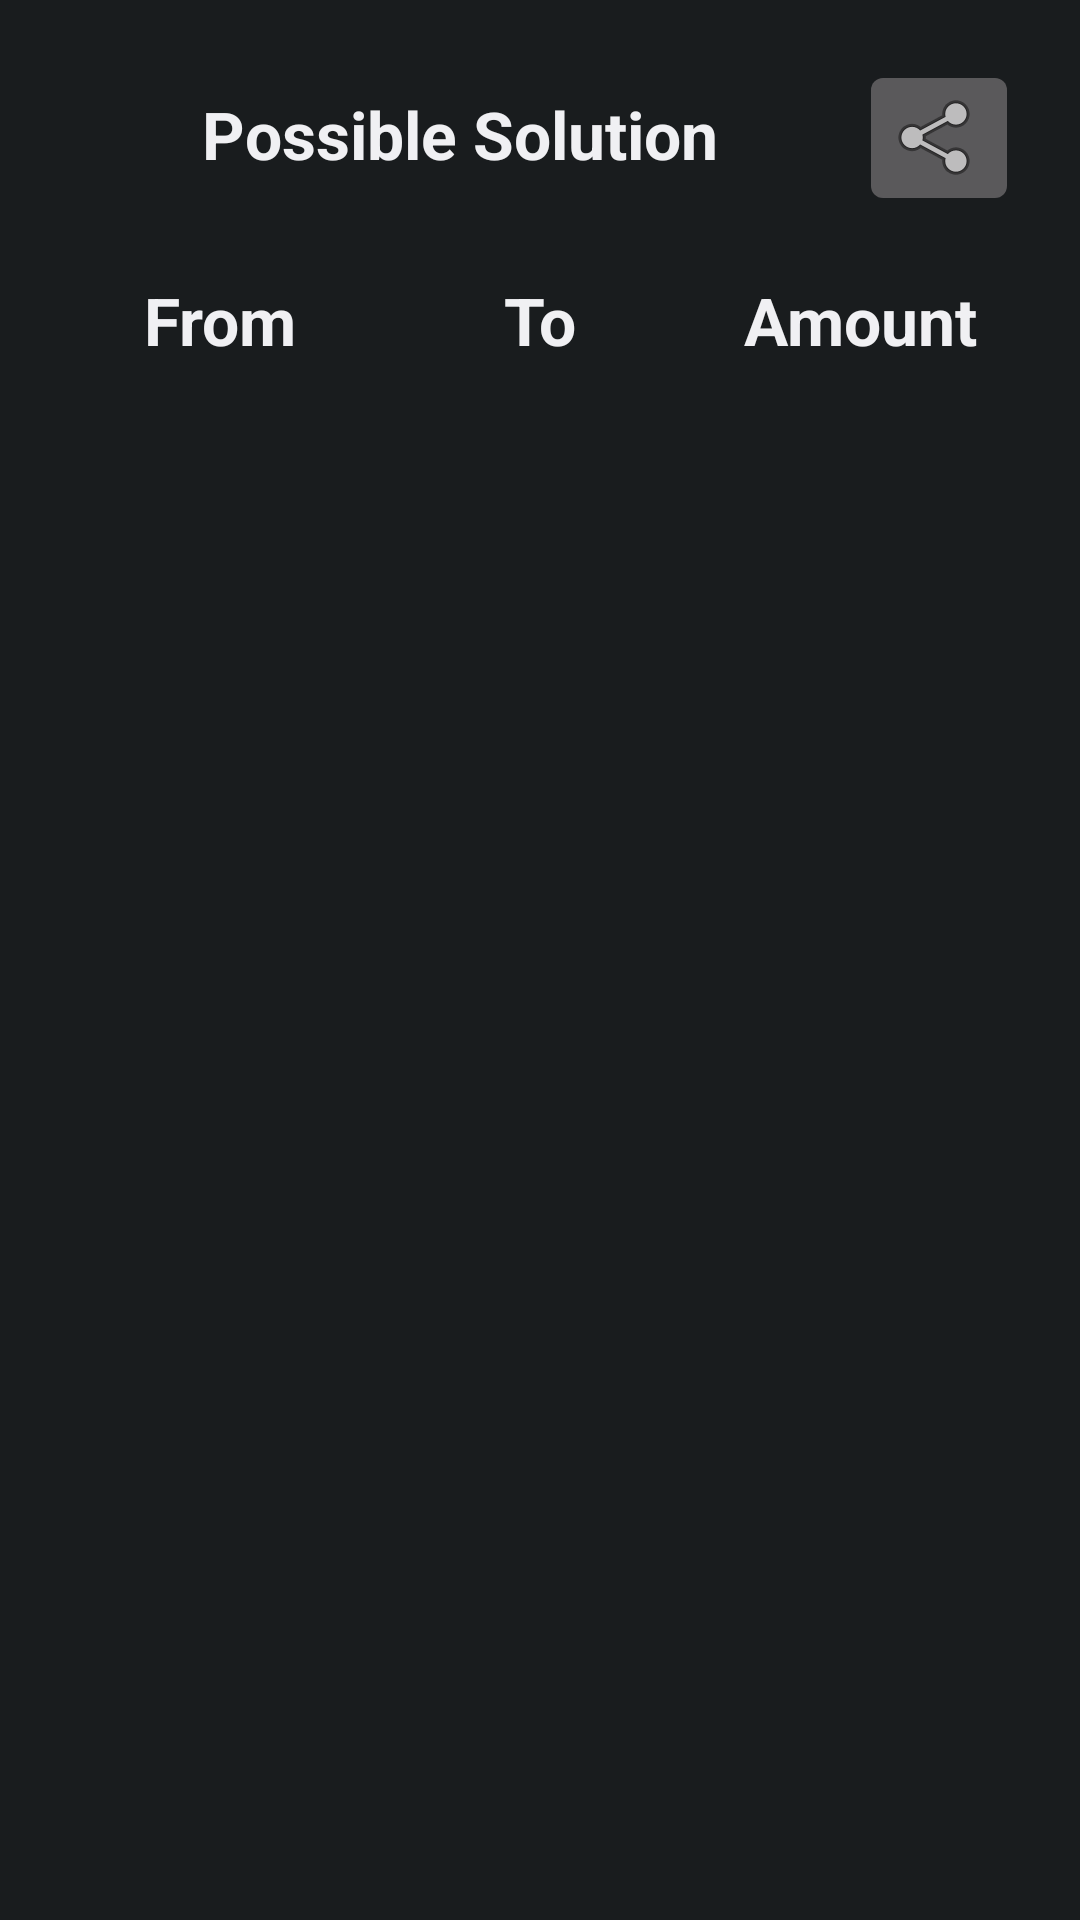

Icon bounding boxes for this 1080x1920 phone screenshot, format (left=x1, top=y1, right=x2, bottom=y2):
Share Among: (left=871, top=78, right=1007, bottom=198)
